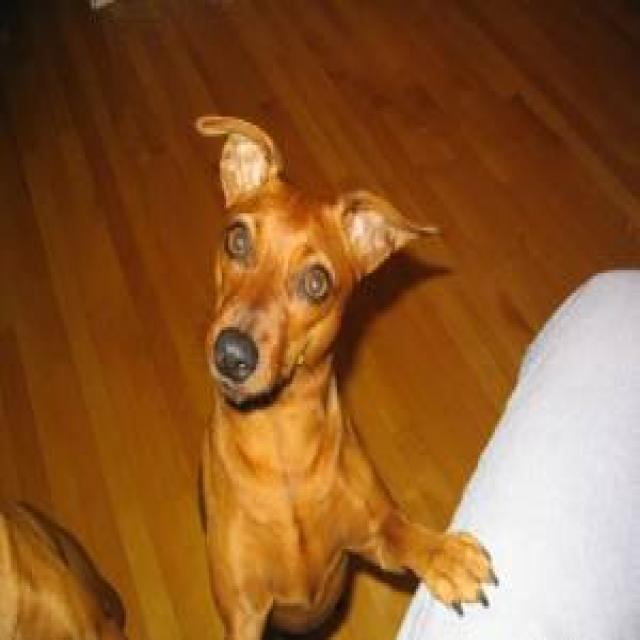dog-miniature_pinscher: (188, 97, 495, 634)
